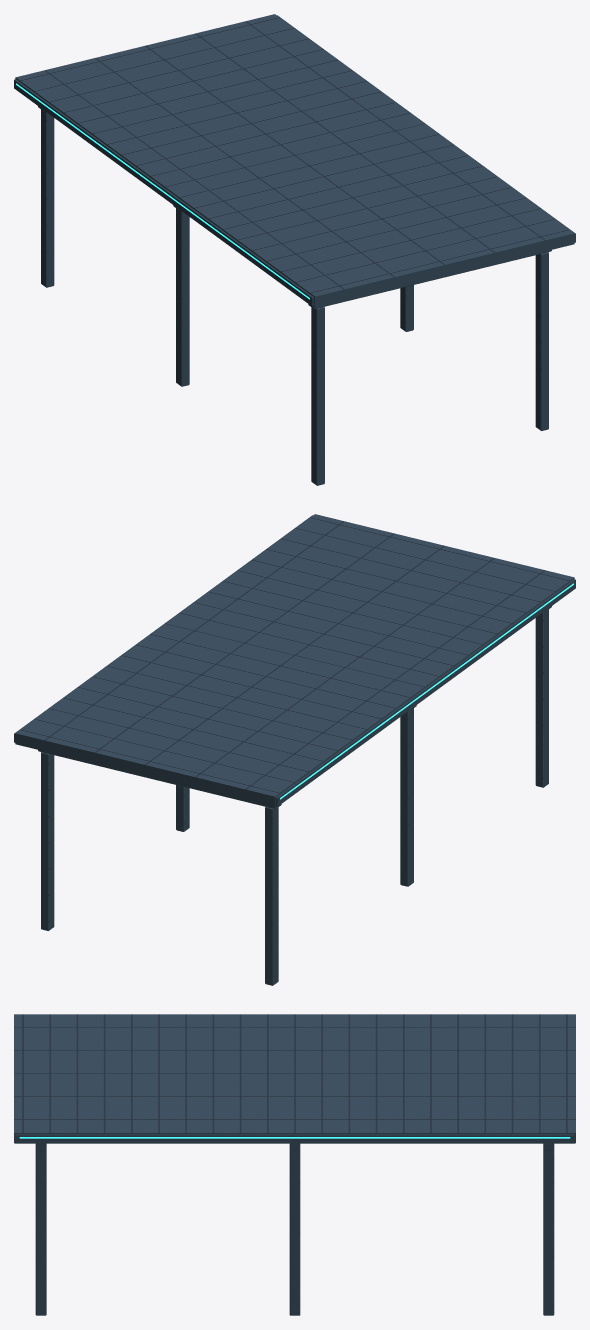
Rendered from arcade-chunk-middle.glb.
3 renders of one model, top to bottom at view 1: azimuth 30°, elevation 25°; view 2: azimuth 150°, elevation 25°; view 3: azimuth 270°, elevation 25°, orthographic. The views are drawn at different scales.
Parts seen in each view (by area): view 1: arcade-chunk-middle; view 2: arcade-chunk-middle; view 3: arcade-chunk-middle.
Part boxes in pixels (left/top/right/bottom): arcade-chunk-middle: left=14, top=14, right=575, bottom=485; arcade-chunk-middle: left=14, top=514, right=575, bottom=985; arcade-chunk-middle: left=14, top=1014, right=575, bottom=1315.
Size of the model in its own units: 6.31 by 4.6 by 12.4.
5 materials, 1 textured.
